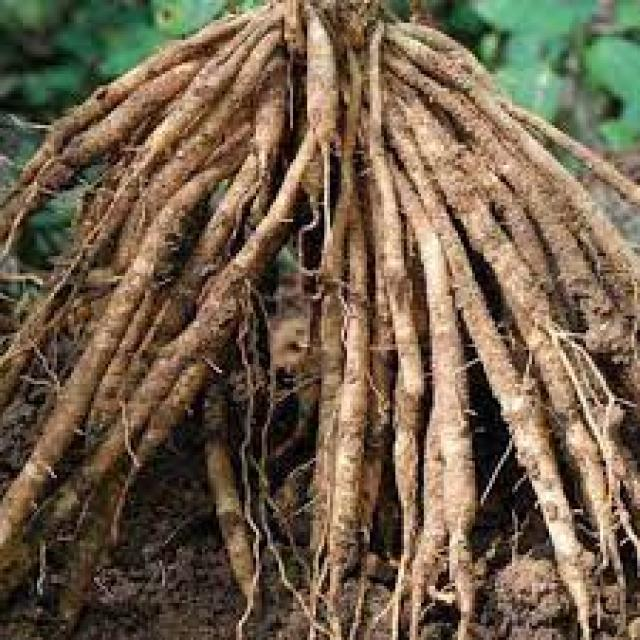Anantamul: (75, 30, 640, 581)
